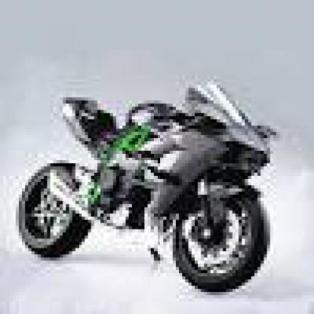Motocicleta: (16, 79, 281, 296)
